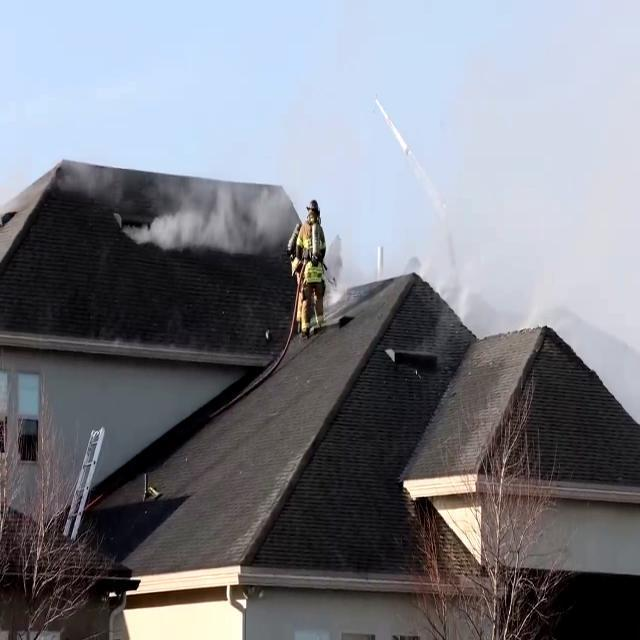Smoke: (128, 160, 298, 259), (51, 150, 116, 200)
